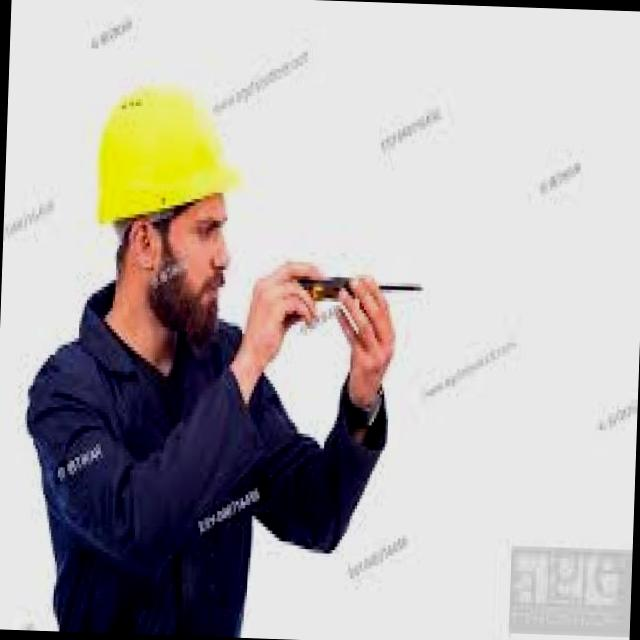screwdriver: (298, 276, 350, 301), (379, 283, 422, 291)
